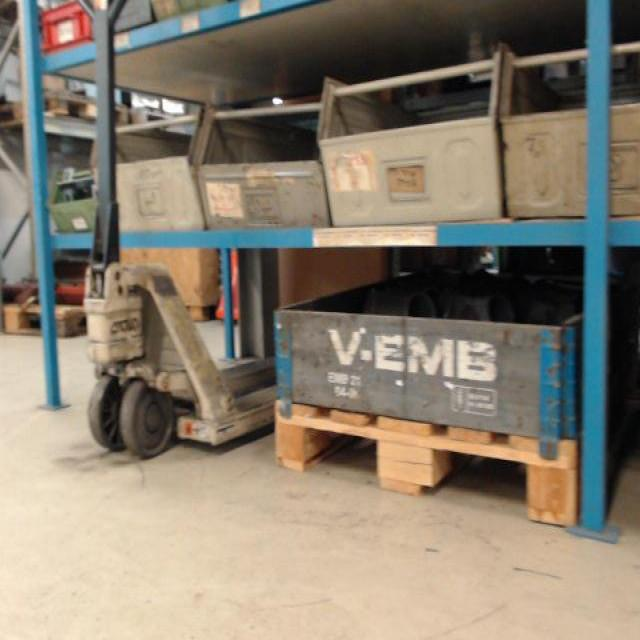pallet: (272, 400, 581, 530), (0, 90, 99, 132), (0, 300, 89, 340), (130, 106, 181, 130)
pallet_truck: (68, 3, 283, 465)
small_load_carrier: (36, 5, 95, 65)
